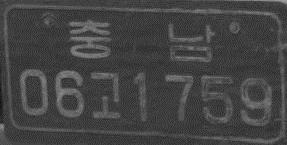0: (19, 68, 48, 116)
1: (127, 70, 156, 122)
5: (200, 74, 235, 126)
6: (54, 68, 83, 118)
7: (164, 73, 193, 122)
9: (240, 75, 273, 128)
고: (89, 70, 122, 120)
충남_D: (68, 17, 215, 63)
